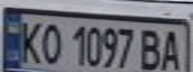0: (84, 22, 103, 68)
1: (66, 21, 87, 66)
7: (115, 25, 139, 70)
9: (100, 24, 121, 69)
A: (157, 27, 187, 71)
B: (136, 26, 166, 72)
K: (15, 17, 45, 65)
O: (36, 19, 66, 65)
